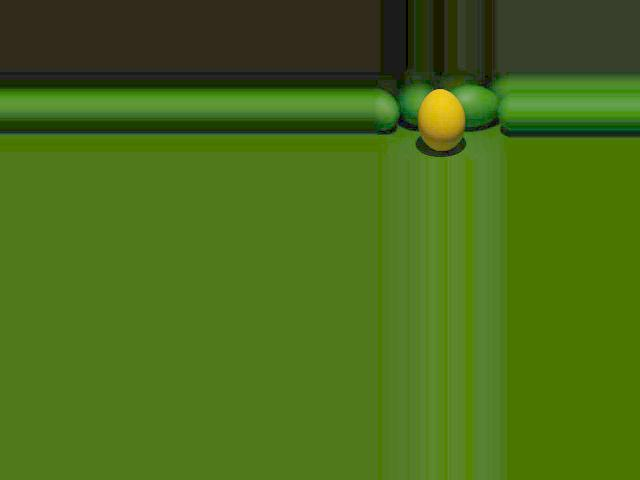egg: (418, 89, 465, 151)
